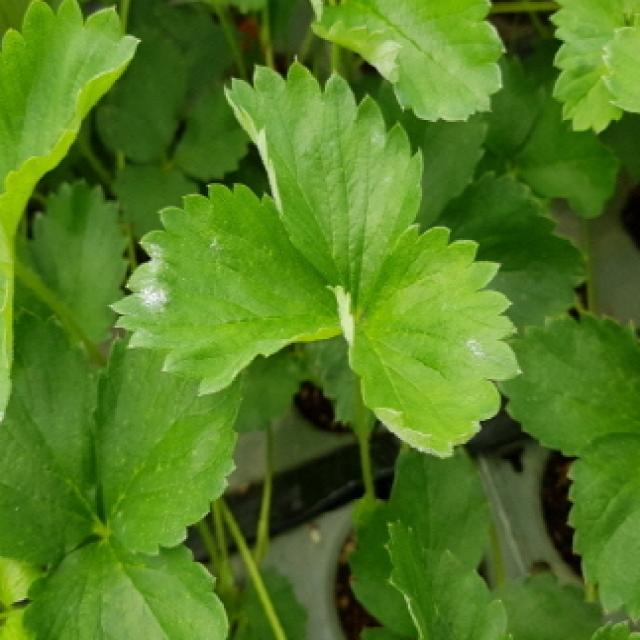Powdery Mildew Leaf: (107, 179, 343, 398), (222, 54, 426, 299), (324, 220, 524, 459), (309, 0, 510, 122)
